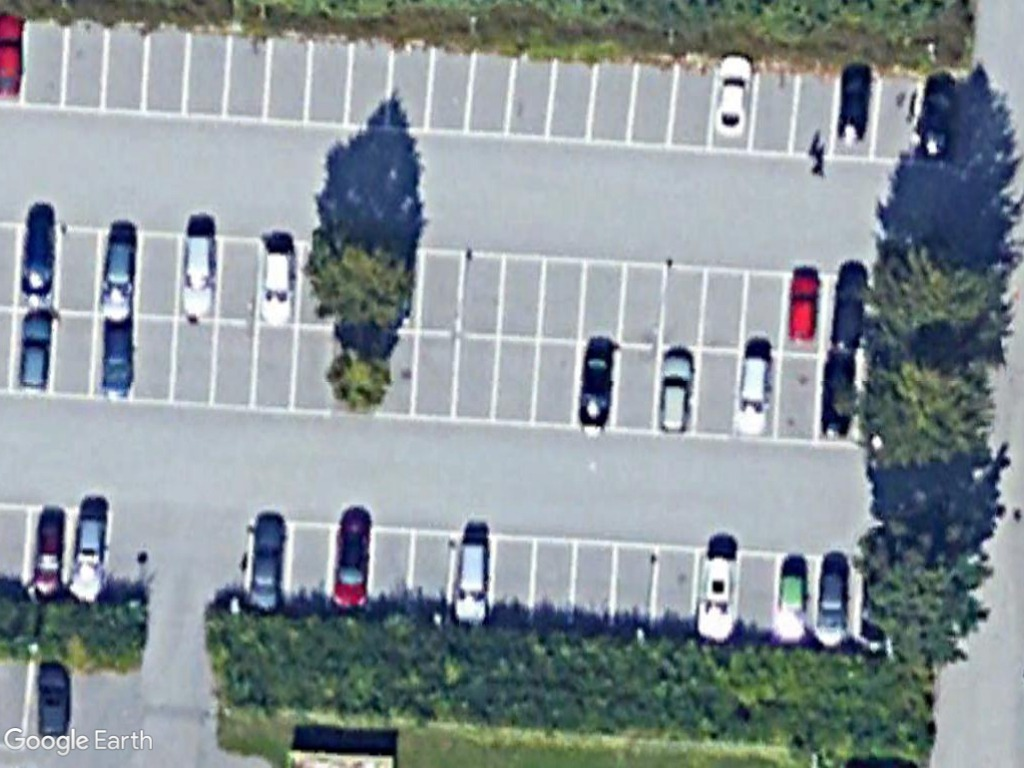car: (692, 548, 747, 650), (570, 336, 622, 442), (725, 348, 780, 445), (173, 224, 222, 330), (326, 510, 375, 614), (448, 528, 497, 631), (94, 227, 144, 326), (245, 510, 289, 617), (708, 50, 758, 144), (652, 345, 698, 442), (256, 243, 299, 339), (15, 308, 61, 396), (780, 269, 827, 351), (30, 508, 68, 603), (813, 557, 851, 641), (73, 502, 111, 576)
